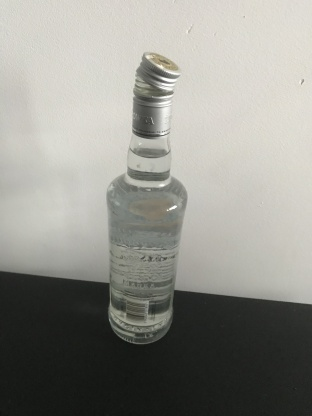nakretka: (130, 49, 182, 139)
